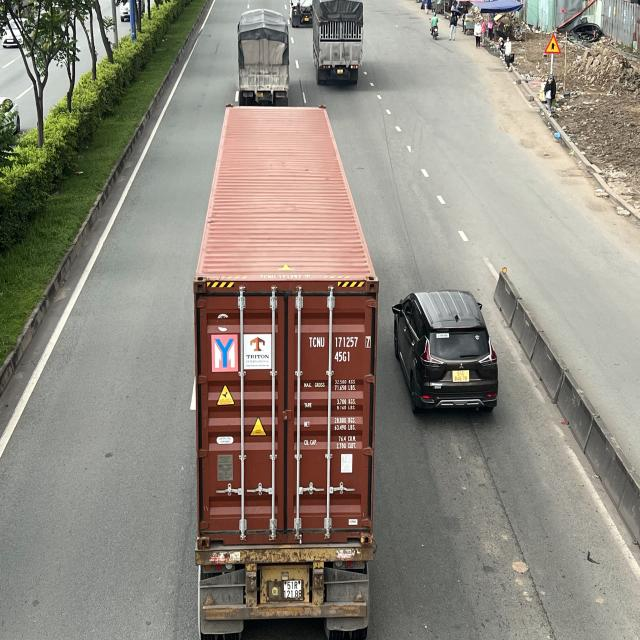car: (392, 291, 502, 417)
container: (194, 105, 378, 635)
truck: (237, 9, 290, 102), (312, 0, 363, 85)
